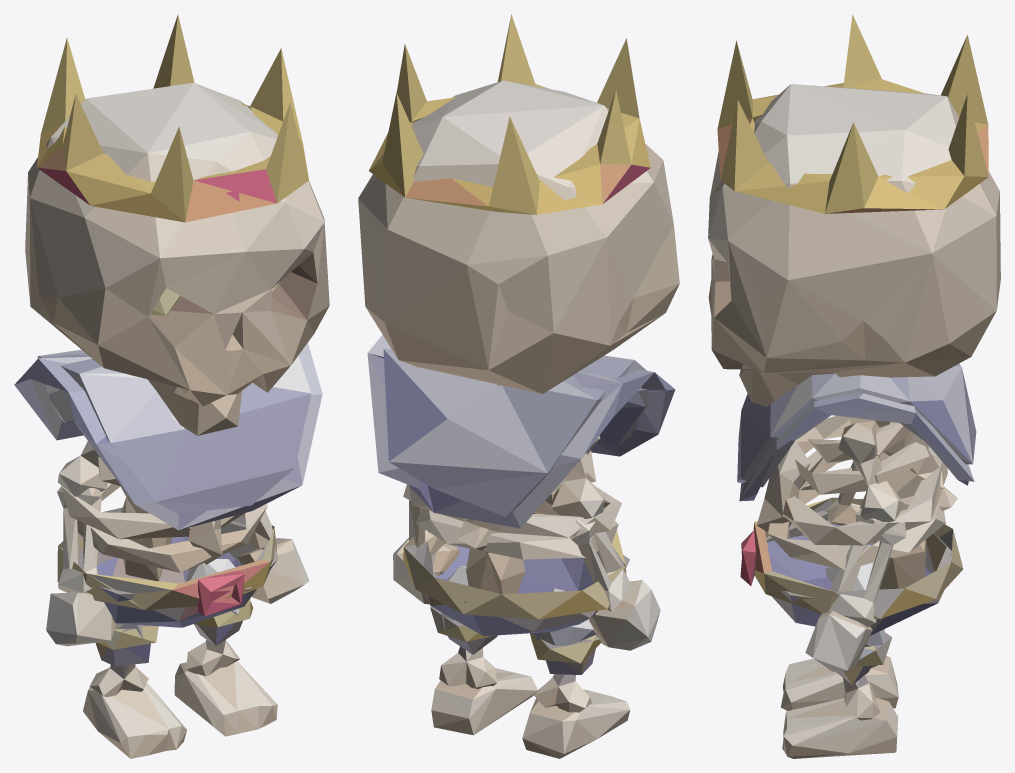
File: sk_King.obj
3 views of the same model, side by side, from view 1: azimuth 30°, elevation 25°; view 2: azimuth 150°, elevation 25°; view 3: azimuth 270°, elevation 25° (orthographic). The views are drawn at different scales.
Parts seen in each view (by area): view 1: sk_King; view 2: sk_King; view 3: sk_King.
Part boxes in pixels (x1,y1,x2,y2): sk_King: [14, 15, 329, 758]; sk_King: [358, 14, 679, 758]; sk_King: [708, 14, 1000, 758].
Bounding box in the file's own units: 5.23 × 13 × 5.18.
